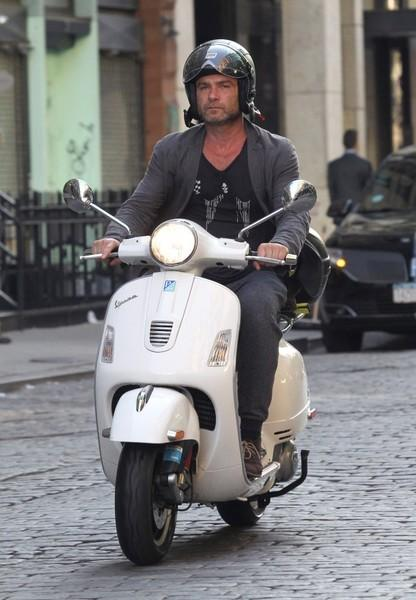helmet: (182, 38, 256, 125)
nohelmet: (341, 127, 361, 155)
